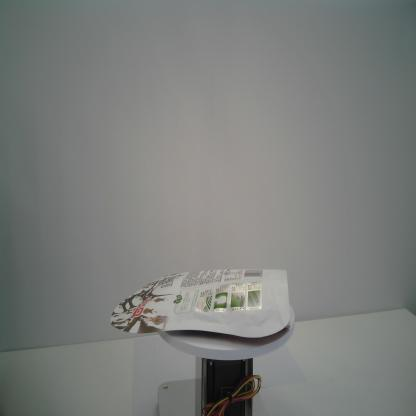Dried Fruit: (110, 268, 290, 338)
